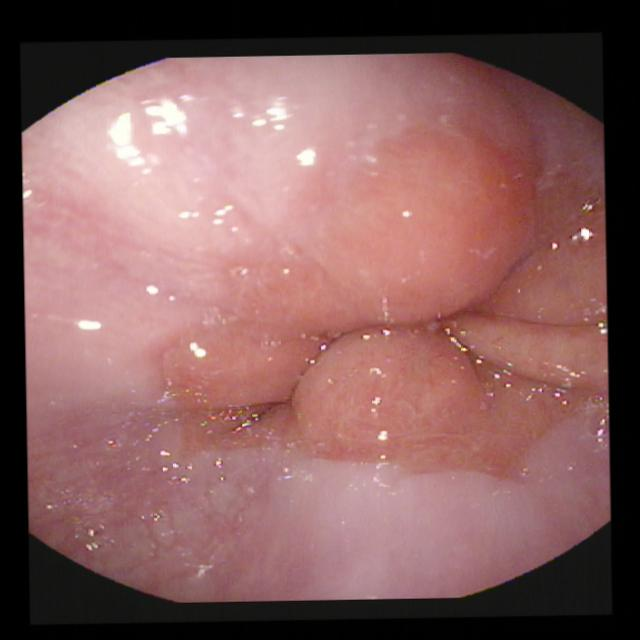Normal-Z-Line: (152, 103, 613, 491)
